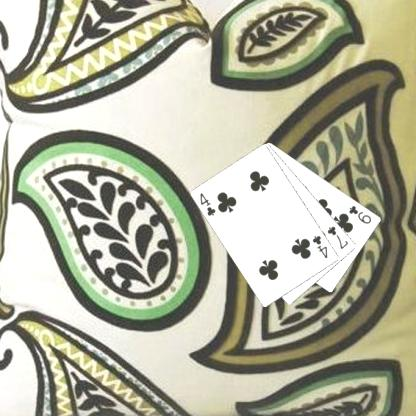4C: (310, 232, 329, 260), (198, 190, 217, 217)
7C: (325, 223, 350, 251)
9C: (346, 203, 374, 225)
